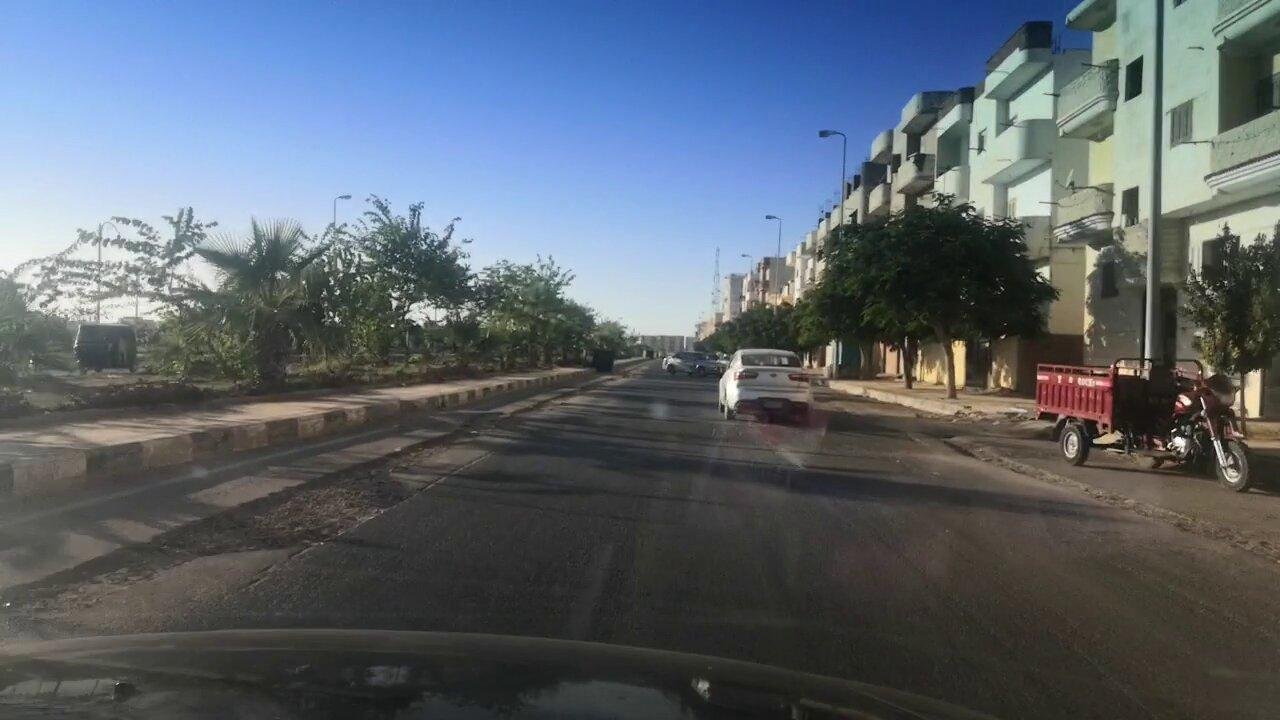Pothole: (28, 432, 450, 627)
